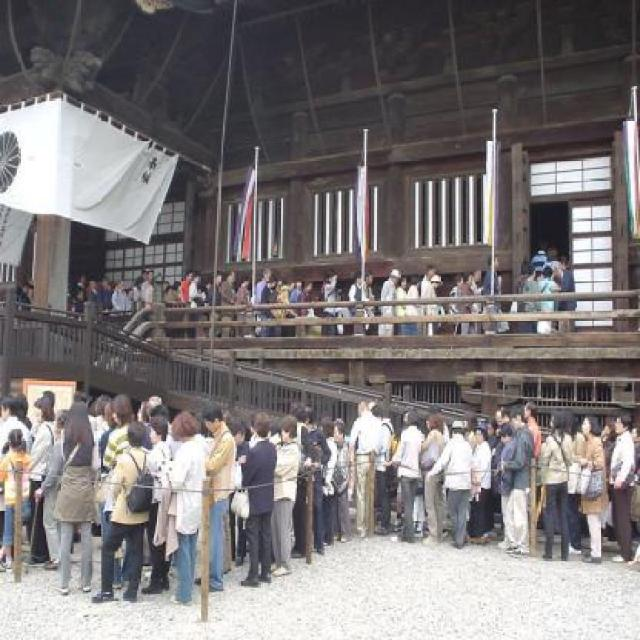Person: (0, 389, 638, 607), (17, 239, 577, 335), (236, 420, 281, 592)
